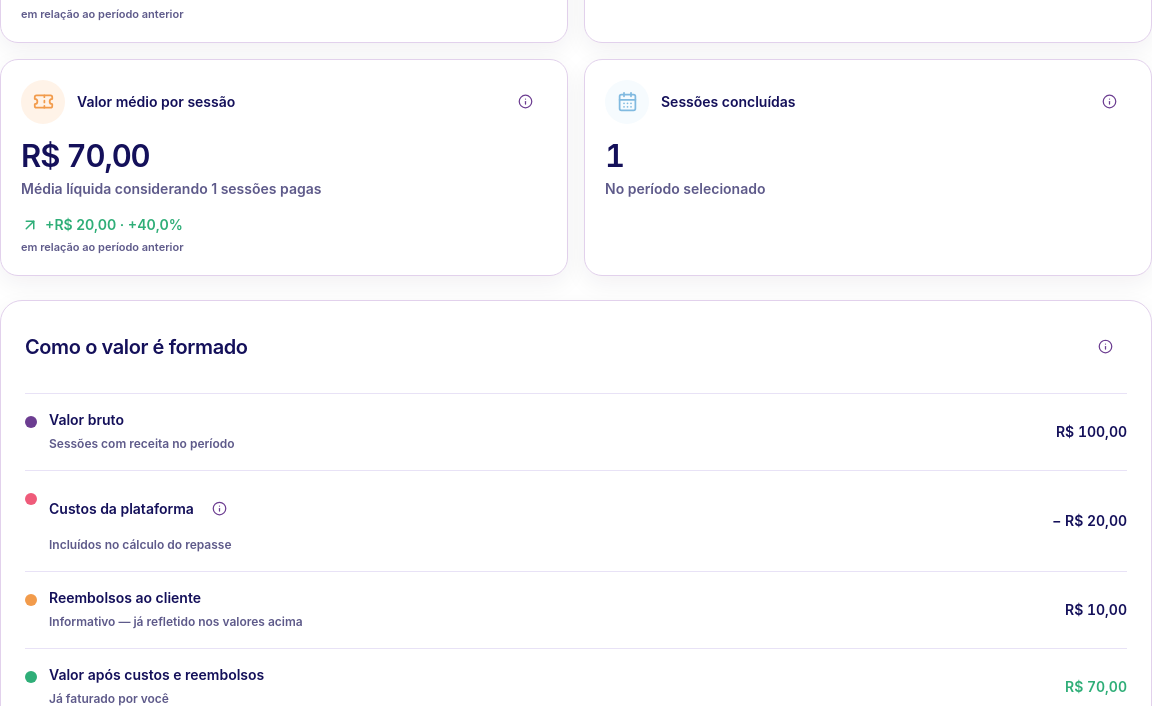
Test: TherapistFinancePage › shows refunds as already reflected information instead of subtracting them twice
(page scrolled)
Expected: the text "Informativo — já refletido nos valores acima" is shown, [49,612,303,632]
Expected: the text "R$ 10,00" is shown, [1065,600,1127,620]
Click the button named "Saiba mais sobre Como o valor é formado". click: (1105, 347)
box: [1083,325,1127,369]
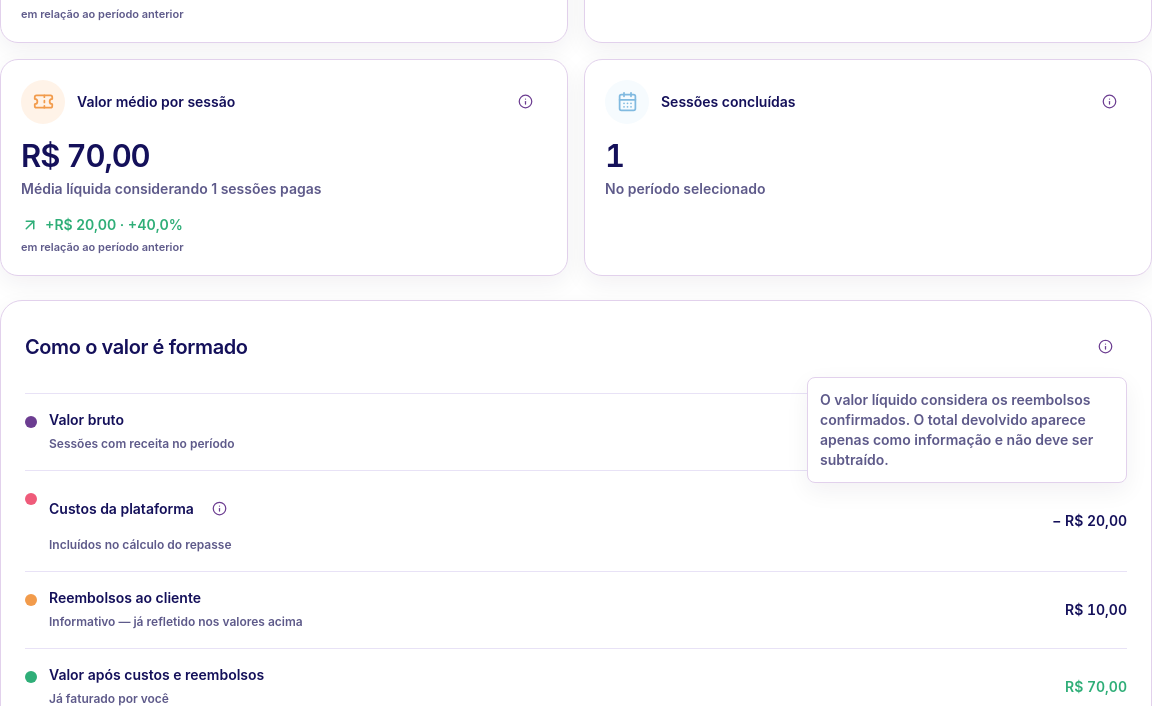
Result: the tooltip "O valor líquido considera os reembolsos confirmados. O total devolvido aparece apenas como informação e não deve ser sub" is shown at [820,391,1093,468]
